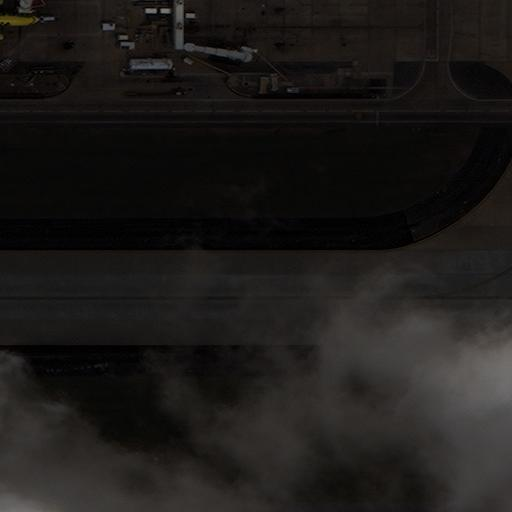Medium Civil Transport: (0, 0, 42, 51)
